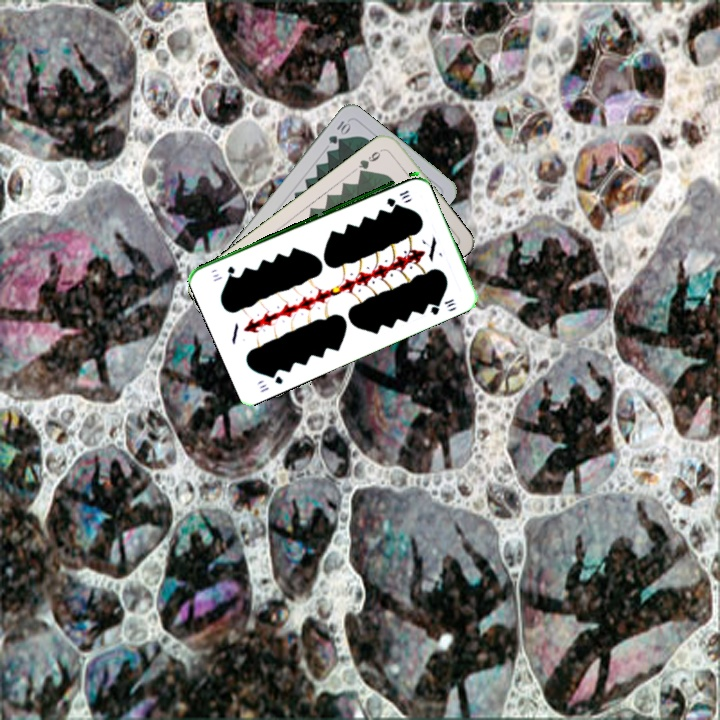G10: (324, 117, 353, 147), (256, 368, 286, 395), (383, 186, 412, 208)
G9: (354, 145, 386, 177)
